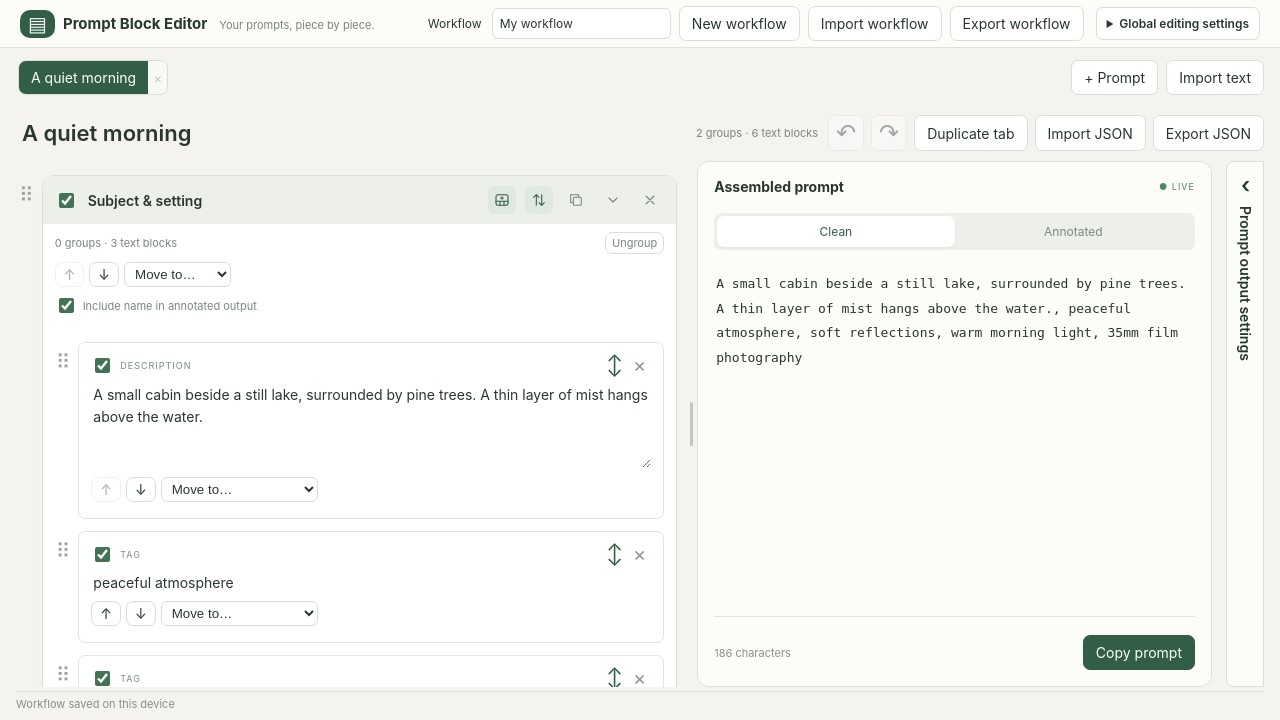
starts a blank workflow with one fresh tab and saves it locally
The image size is (1280, 720).
What coordinates should you click on to do the following:
click the button "New workflow"
I would click on:
 (739, 24)
Its box is [679,6,800,41].
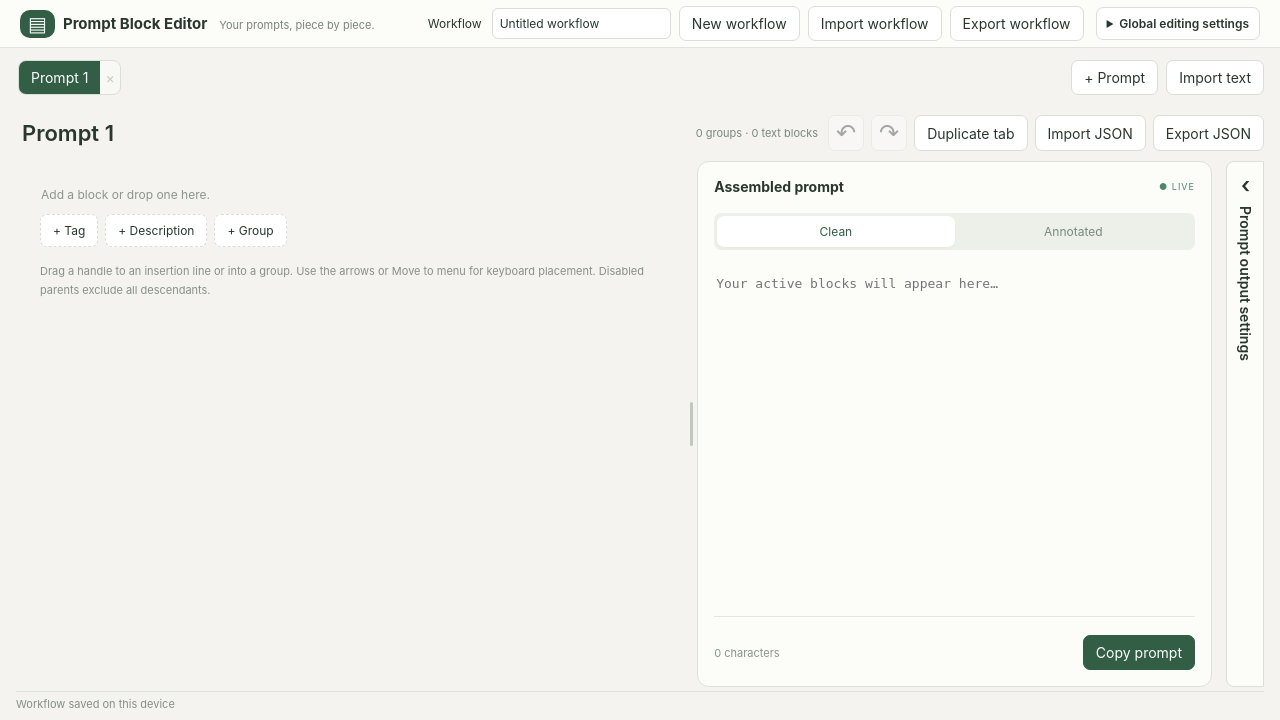
Check: the button named "Undo" is disabled, box [828,115,864,151]
Check: the field named "Workflow name" holds "Untitled workflow", box [492,8,671,39]
Check: the number of tabs is 1, box [19,61,100,94]
